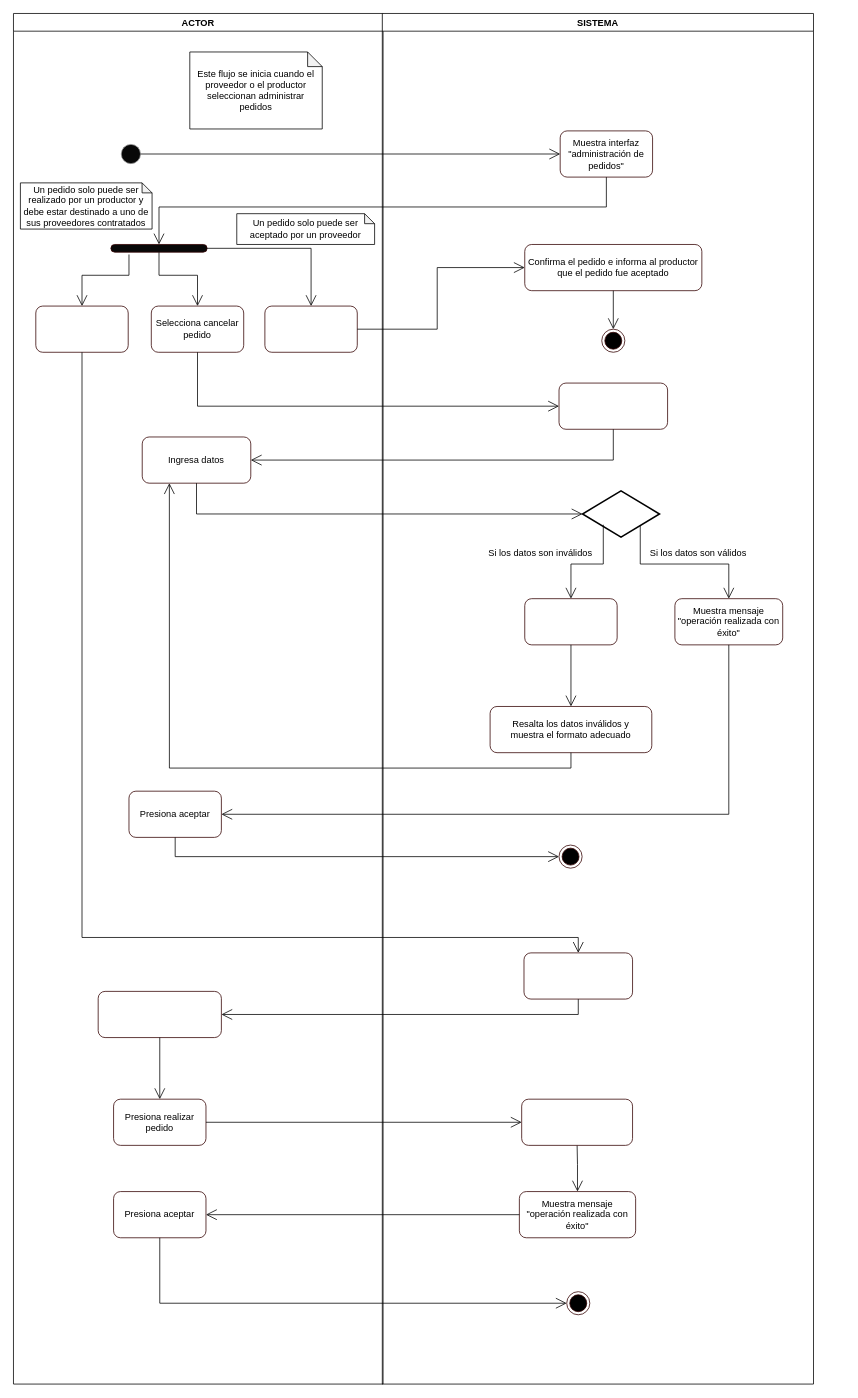
Image size: 858x1398. Some labels were removed from this diagram. Here are the shapes that lost their labels. From the top down, the box of each, then its label:
(35, 305, 128, 352): Selecciona realizar pedido
(264, 305, 357, 352): Selecciona aceptar pedido
(558, 382, 668, 429): Muestra interfaz "formulario razón de cancelación de pedido"
(524, 598, 617, 645): Muestra mensaje "datos inválidos"
(523, 952, 633, 999): Muestra interfaz "formulario datos de pedido"
(97, 991, 221, 1038): Selecciona las opciones disponibles especificadas en el contrato
(521, 1098, 633, 1145): Crea el pedido y lo envía al proveedor respectivo
